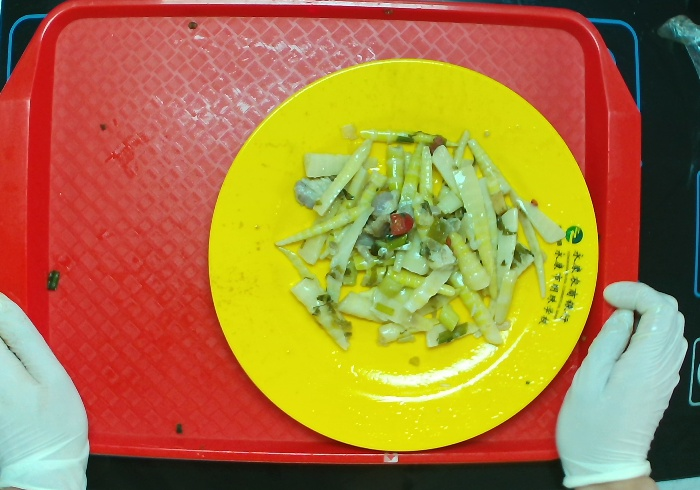YKMZ-Huang_Se_Mian_Pan: (208, 57, 600, 454)
